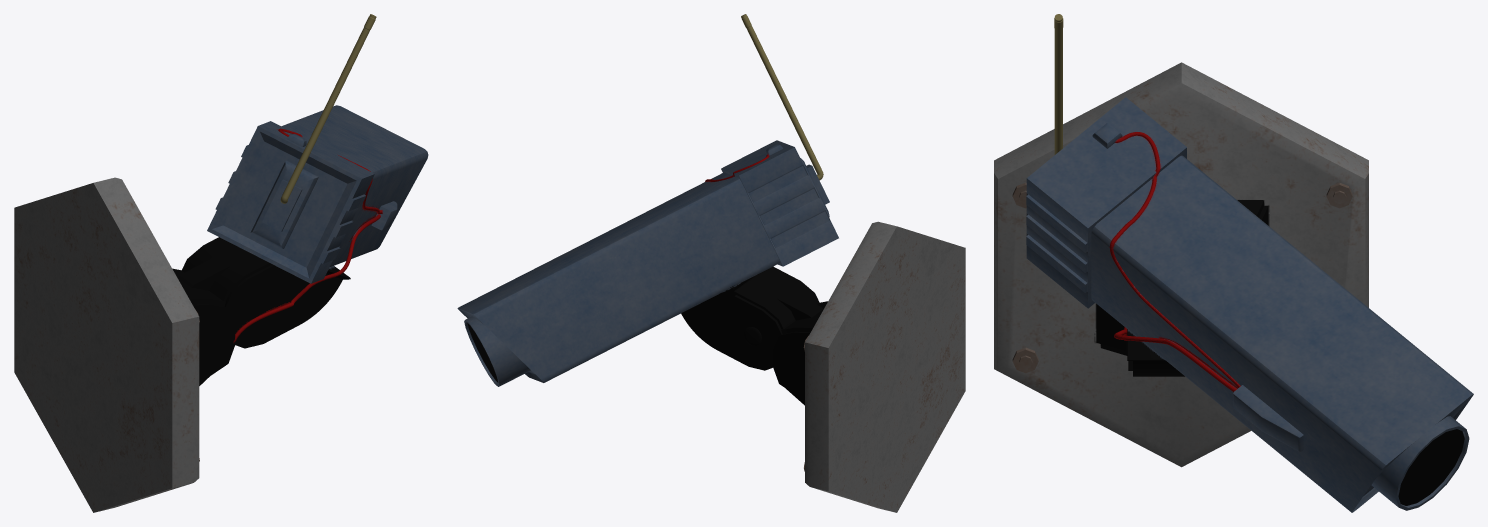
File: camera_3.fbx
3 renders of one model, left to right at view 1: azimuth 30°, elevation 25°; view 2: azimuth 150°, elevation 25°; view 3: azimuth 270°, elevation 25°, orthographic. The views are drawn at different scales.
Visible parts, largest first — view 1: bake; view 2: bake; view 3: bake.
Boxes of the visible parts, x1,y1,x2,y2 form: bake: (14, 14, 428, 512); bake: (457, 14, 965, 512); bake: (994, 14, 1473, 512).
Bounding box in the file's own units: 266 × 291 × 222.
Materials: 1 (1 with a texture image).
